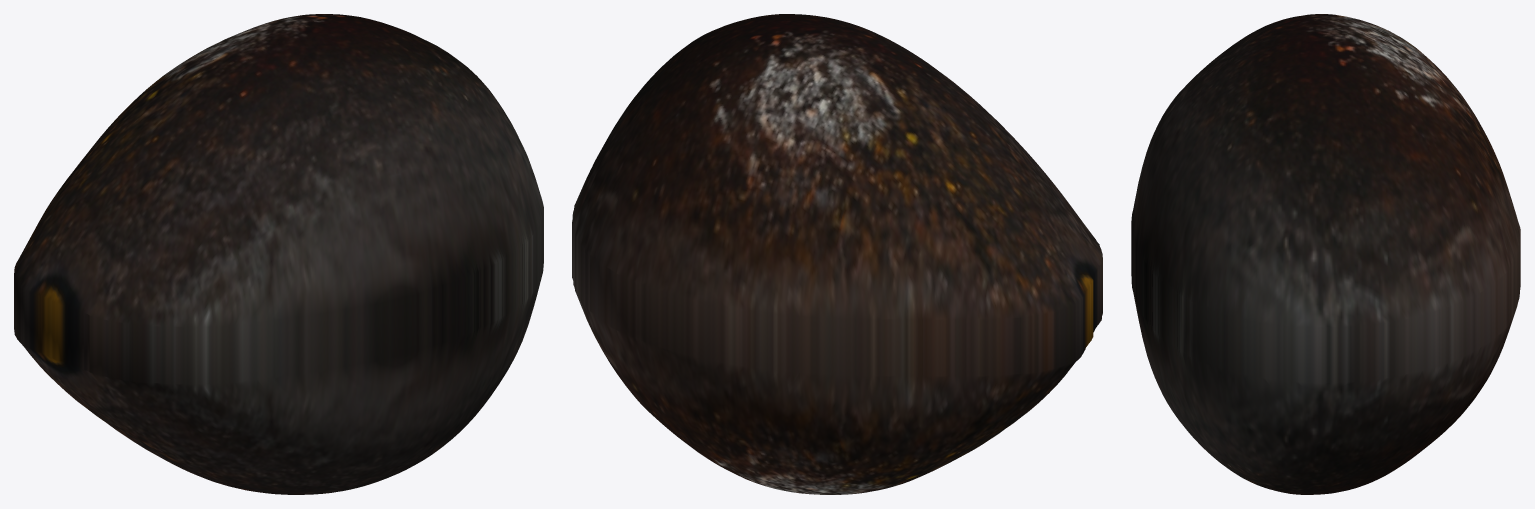
Rendered from avocado_8.obj.
The picture shows the model from 3 angles, left to right: view 1: azimuth 30°, elevation 25°; view 2: azimuth 150°, elevation 25°; view 3: azimuth 270°, elevation 25°; orthographic projection. The views are drawn at different scales.
Parts seen in each view (by area): view 1: Grid; view 2: Grid; view 3: Grid.
Part boxes in pixels (left/top/right/bottom): Grid: left=14, top=14, right=543, bottom=494; Grid: left=572, top=14, right=1102, bottom=494; Grid: left=1131, top=14, right=1520, bottom=494.
Size of the model in its own units: 1.82 by 1.6 by 1.29.
1 material, 1 textured.
